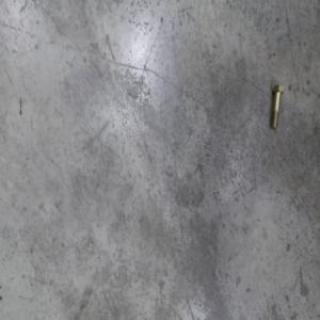Bolttrack_idkeyframe: (268, 82, 282, 129)
